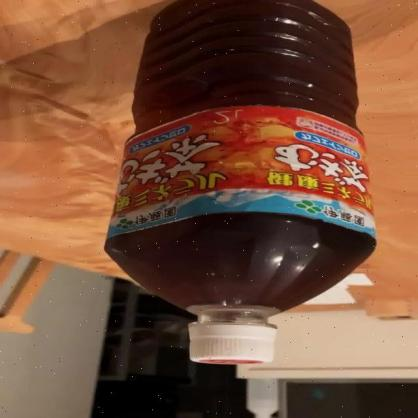bottle: (101, 0, 378, 367)
cap: (182, 320, 280, 380)
label: (104, 112, 375, 236)
